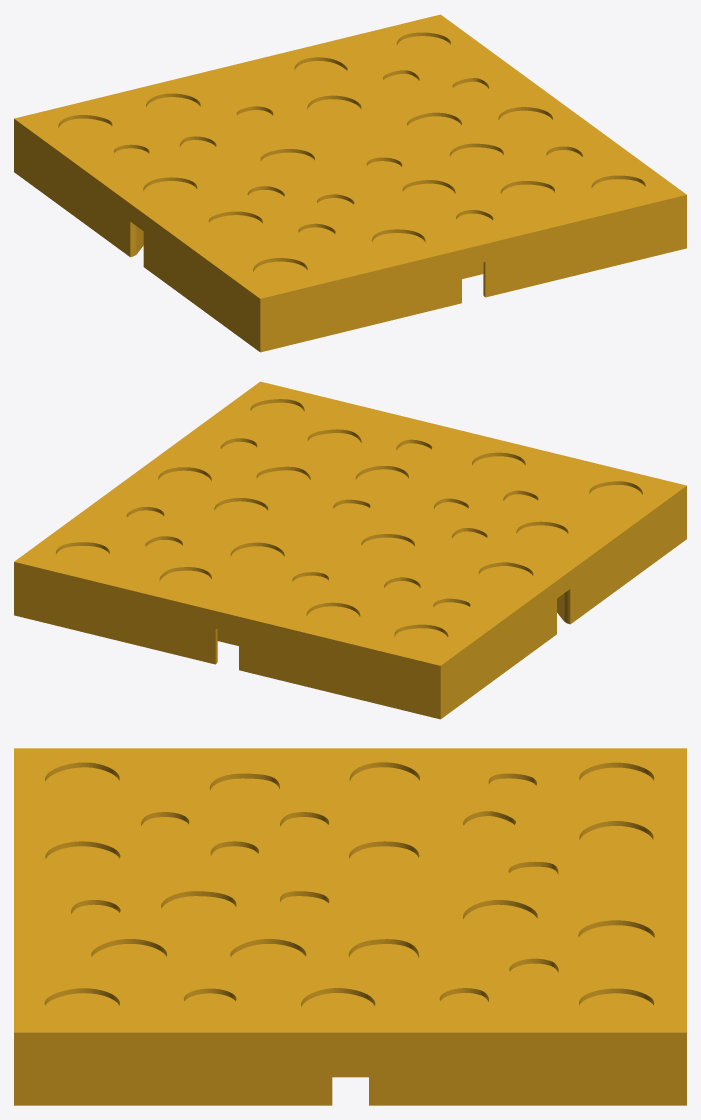
The model's file is 5x5 Sand.obj.
The picture shows the model from 3 angles, top to bottom: view 1: azimuth 30°, elevation 25°; view 2: azimuth 150°, elevation 25°; view 3: azimuth 270°, elevation 25°; orthographic projection. The views are drawn at different scales.
Parts seen in each view (by area): view 1: Körper1; view 2: Körper1; view 3: Körper1.
Boxes of the visible parts, bbox=[...] form: Körper1: bbox=[14, 14, 686, 352]; Körper1: bbox=[14, 381, 686, 719]; Körper1: bbox=[14, 748, 686, 1105].
Size of the model in its own units: 50 by 6 by 50.
